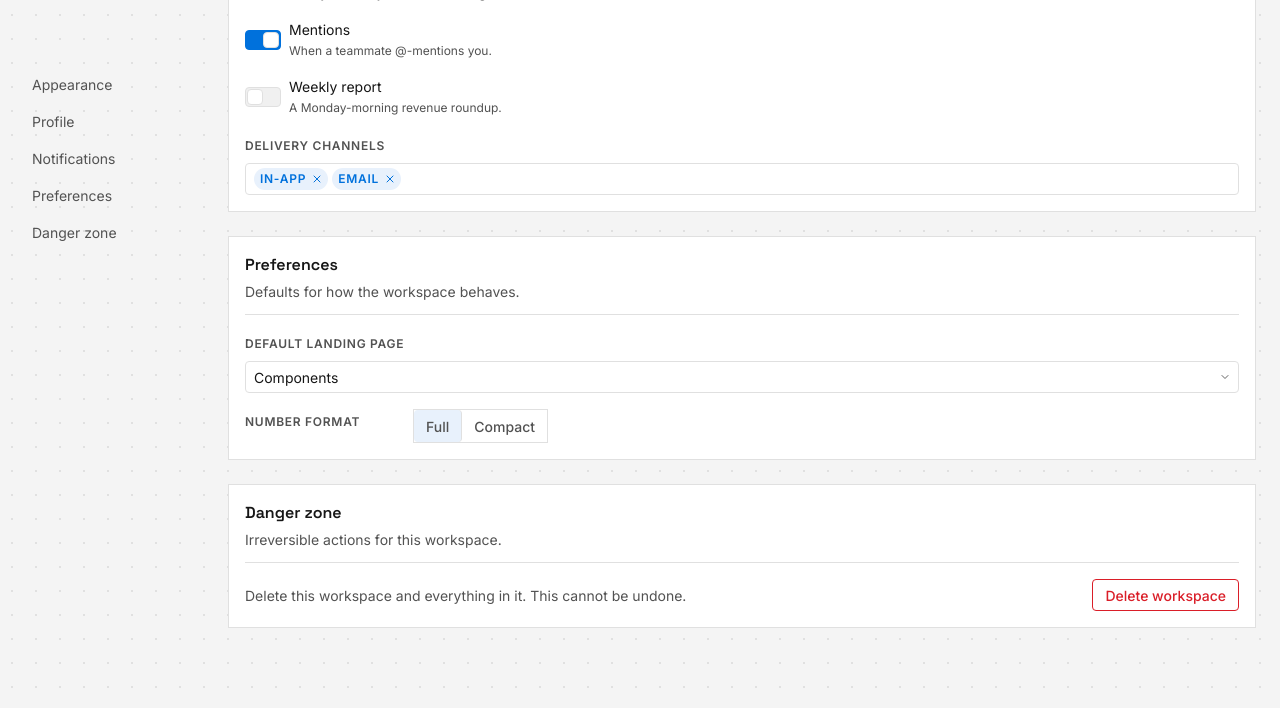
Test case: danger zone opens a confirm dialog
(page scrolled)
Click the button "Delete workspace".
click(1166, 595)  # box [1092,579,1239,611]
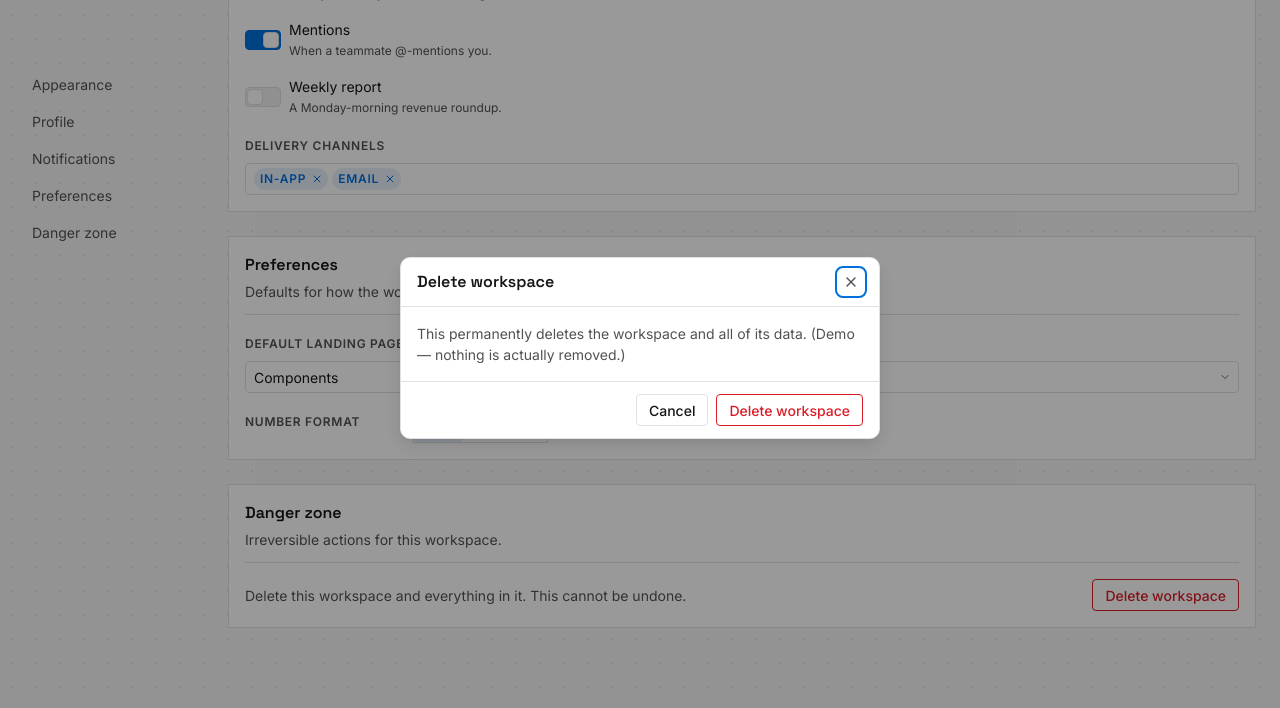
Expected: the heading "Delete workspace" is shown, [417,270,554,294]
